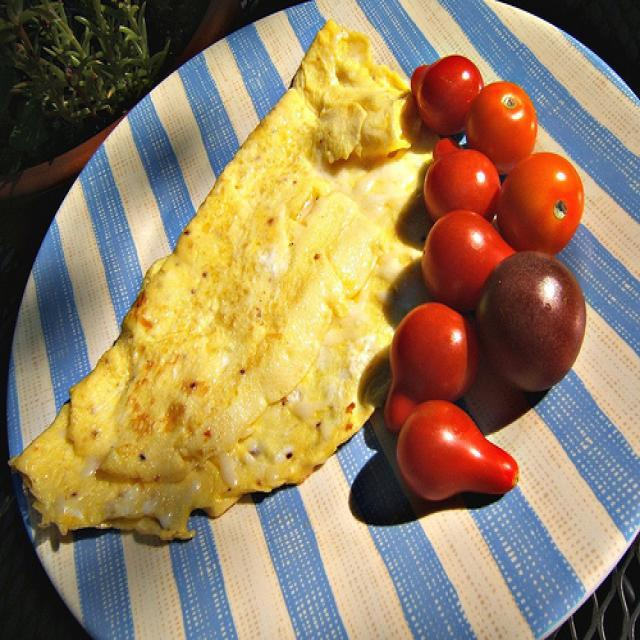Omelet: (23, 31, 396, 518)
